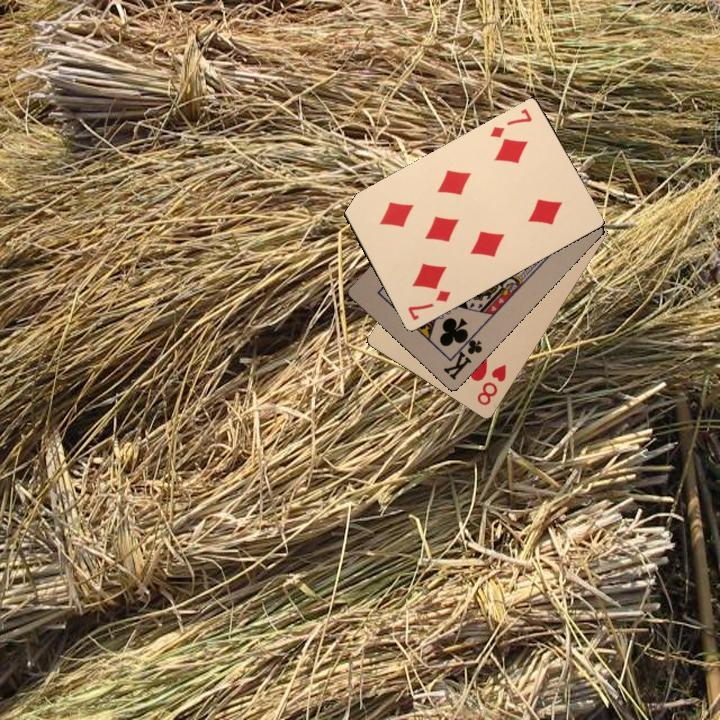7d: (404, 286, 453, 323), (486, 104, 535, 140)
8h: (473, 360, 509, 408)
Kc: (439, 328, 485, 382)
